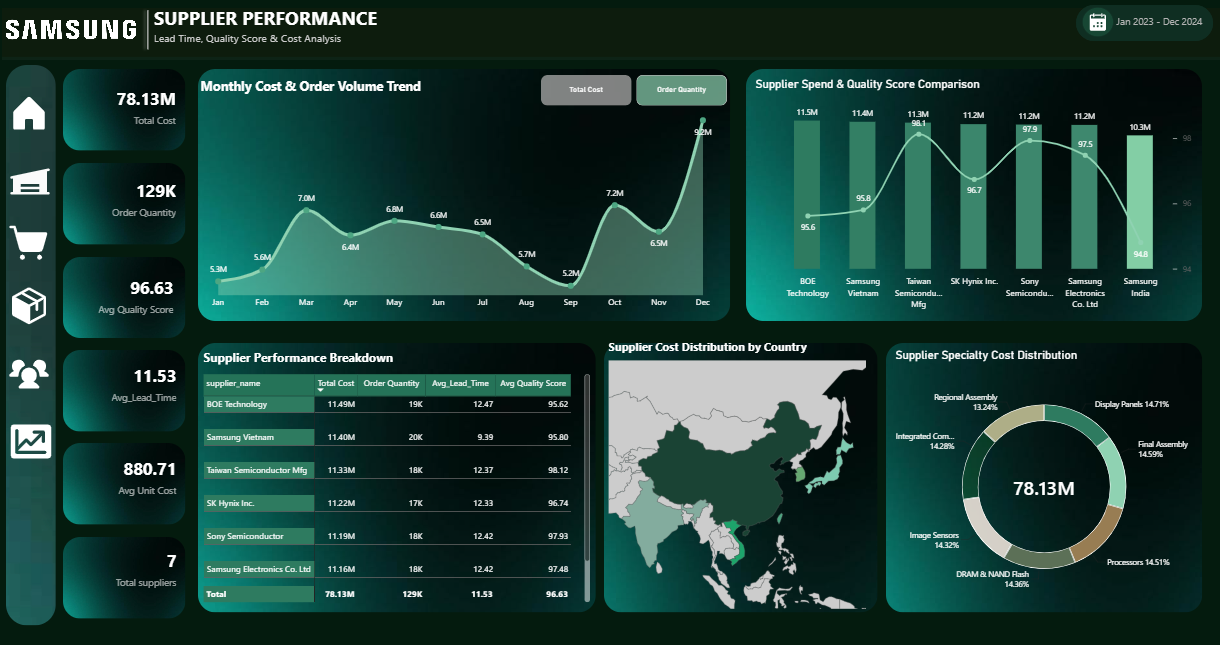

This screenshot's page, from the dashboard's own definition file:
{"tool":"powerbi","page":{"name":"Supplier","canvas":[2035,1080],"ordinal":4},"visuals":[{"type":"shape","box":[0,11.4,2077,91.6],"z":0},{"type":"image","box":[331.4,574.3,662.9,448.6],"z":1000},{"type":"image","box":[1008.6,574.3,455.7,448.6],"z":2000},{"type":"image","box":[1244.9,118.5,760.5,420],"z":3000},{"type":"image","box":[1478.6,574.3,527.1,448.6],"z":4000},{"type":"image","box":[331.6,119.1,887.4,420.3],"z":5000},{"type":"image","box":[106.7,898.5,204.1,136],"z":6000},{"type":"image","box":[106.7,742.4,204.1,136],"z":7000},{"type":"image","box":[106.7,586.2,204.1,136],"z":8000},{"type":"image","box":[106.7,431.4,204.1,134.6],"z":9000},{"type":"image","box":[106.7,275.3,204.1,136],"z":10000},{"type":"image","box":[106.7,119.1,204.1,136],"z":11000},{"type":"cardVisual","fields":{"Data":["Measures_table.Total Cost"]},"box":[111.3,111.4,199.6,141.5],"z":12000},{"type":"cardVisual","fields":{"Data":["Measures_table.Order Quantity"]},"box":[111.3,265.5,199.6,141.5],"z":13000},{"type":"cardVisual","fields":{"Data":["Measures_table.Avg Quantity Score"]},"box":[107.1,427.1,200,140],"z":14000},{"type":"cardVisual","fields":{"Data":["Measures_table.Avg_Lead_Time"]},"box":[111.1,573.6,200,141.5],"z":15000},{"type":"cardVisual","fields":{"Data":["Measures_table.Avg Unit Cost"]},"box":[111.1,727.7,200,141.5],"z":16000},{"type":"cardVisual","fields":{"Data":["CountNonNull(dim_supplier.supplier_id)"]},"box":[111.1,881.7,200,141.5],"z":17000},{"type":"pivotTable","title":"Supplier Performance Breakdown","fields":{"Rows":["dim_supplier.supplier_name"],"Values":["Measures_table.Total Cost","Measures_table.Order Quantity","Measures_table.Avg_Lead_Time","Measures_table.Avg Quality Score"]},"box":[324.3,570,675.7,452.9],"z":18000},{"type":"lineChart","title":"Monthly Cost & Order Volume Trend","fields":{"Category":["dim_date.quarter","dim_date.year","dim_date.short_month_name"],"Y":["Measures_table.Total Cost"]},"box":[320,118.6,898.6,420],"z":19000},{"type":"advancedSlicerVisual","fields":{"Values":["Cost_Quantity_Supplier.Cost_Quantity_Supplier"]},"box":[902.9,128.6,310,51.4],"z":20000},{"type":"lineStackedColumnComboChart","title":"Supplier Spend & Quality Score Comparison","fields":{"Category":["dim_supplier.supplier_name"],"Y":["Measures_table.Total Cost"],"Y2":["Measures_table.Avg Quality Score"]},"box":[1244.3,118.6,760,420],"z":21000},{"type":"donutChart","title":"Supplier Specialty Cost Distribution","fields":{"Category":["dim_supplier.specialty"],"Y":["Measures_table.Total Cost"]},"box":[1478.6,570,527.1,452.9],"z":22000},{"type":"shapeMap","title":"Supplier Cost Distribution by Country","fields":{"Category":["dim_supplier.country"],"Series":["dim_supplier.supplier_name"],"Value":["Measures_table.Total Cost"]},"box":[1000,555.7,461.4,478.6],"z":23000},{"type":"shape","box":[1795.7,11.4,228.6,60],"z":24000},{"type":"shape","box":[1805.7,15.7,52.9,50],"z":25000},{"type":"shape","title":"SUPPLIER PERFORMANCE","box":[258.6,11.4,408.6,75.7],"z":26000},{"type":"shape","box":[161.4,11.4,172.9,82.9],"z":27000},{"type":"image","box":[0,0,238.9,105.8],"z":28000},{"type":"textbox","box":[1842.9,28.6,181.4,32.9],"z":29000},{"type":"image","box":[1812.9,20,35.7,41.4],"z":30000},{"type":"image","box":[11.4,111.4,82.9,934.3],"z":31000},{"type":"image","box":[15,134.3,70,115],"z":32000},{"type":"image","box":[14.3,454.3,70,115],"z":33000},{"type":"image","box":[14.3,350,70,115],"z":34000},{"type":"image","box":[17.1,250,70,115],"z":35000},{"type":"image","box":[15,566.3,70,115],"z":36000},{"type":"image","box":[11.7,681.7,83.3,115],"z":37000}]}

Visuals, with their boxes in screenshot pixels (x1, y1, x2, y2), scaled from the page's 2035x1080 canvas onto the 1220x645 screenshot:
shape: bbox=(0, 7, 1219, 62)
image: bbox=(199, 343, 596, 611)
image: bbox=(605, 343, 878, 611)
image: bbox=(746, 71, 1202, 322)
image: bbox=(886, 343, 1202, 611)
image: bbox=(199, 71, 731, 322)
image: bbox=(64, 537, 186, 618)
image: bbox=(64, 443, 186, 525)
image: bbox=(64, 350, 186, 431)
image: bbox=(64, 258, 186, 338)
image: bbox=(64, 164, 186, 246)
image: bbox=(64, 71, 186, 152)
cardVisual - Measures_table.Total Cost: bbox=(67, 67, 186, 151)
cardVisual - Measures_table.Order Quantity: bbox=(67, 159, 186, 243)
cardVisual - Measures_table.Avg Quantity Score: bbox=(64, 255, 184, 339)
cardVisual - Measures_table.Avg_Lead_Time: bbox=(67, 343, 187, 427)
cardVisual - Measures_table.Avg Unit Cost: bbox=(67, 435, 187, 519)
cardVisual - CountNonNull(dim_supplier.supplier_id): bbox=(67, 527, 187, 611)
"Supplier Performance Breakdown" pivotTable: bbox=(194, 340, 600, 611)
"Monthly Cost & Order Volume Trend" lineChart: bbox=(192, 71, 731, 322)
advancedSlicerVisual - Cost_Quantity_Supplier.Cost_Quantity_Supplier: bbox=(541, 77, 727, 108)
"Supplier Spend & Quality Score Comparison" lineStackedColumnComboChart: bbox=(746, 71, 1202, 322)
"Supplier Specialty Cost Distribution" donutChart: bbox=(886, 340, 1202, 611)
"Supplier Cost Distribution by Country" shapeMap: bbox=(600, 332, 876, 618)
shape: bbox=(1077, 7, 1214, 43)
shape: bbox=(1083, 9, 1114, 39)
"SUPPLIER PERFORMANCE" shape: bbox=(155, 7, 400, 52)
shape: bbox=(97, 7, 200, 56)
image: bbox=(0, 0, 143, 63)
textbox: bbox=(1105, 17, 1214, 37)
image: bbox=(1087, 12, 1108, 37)
image: bbox=(7, 67, 57, 625)
image: bbox=(9, 80, 51, 149)
image: bbox=(9, 271, 51, 340)
image: bbox=(9, 209, 51, 278)
image: bbox=(10, 149, 52, 218)
image: bbox=(9, 338, 51, 407)
image: bbox=(7, 407, 57, 476)
